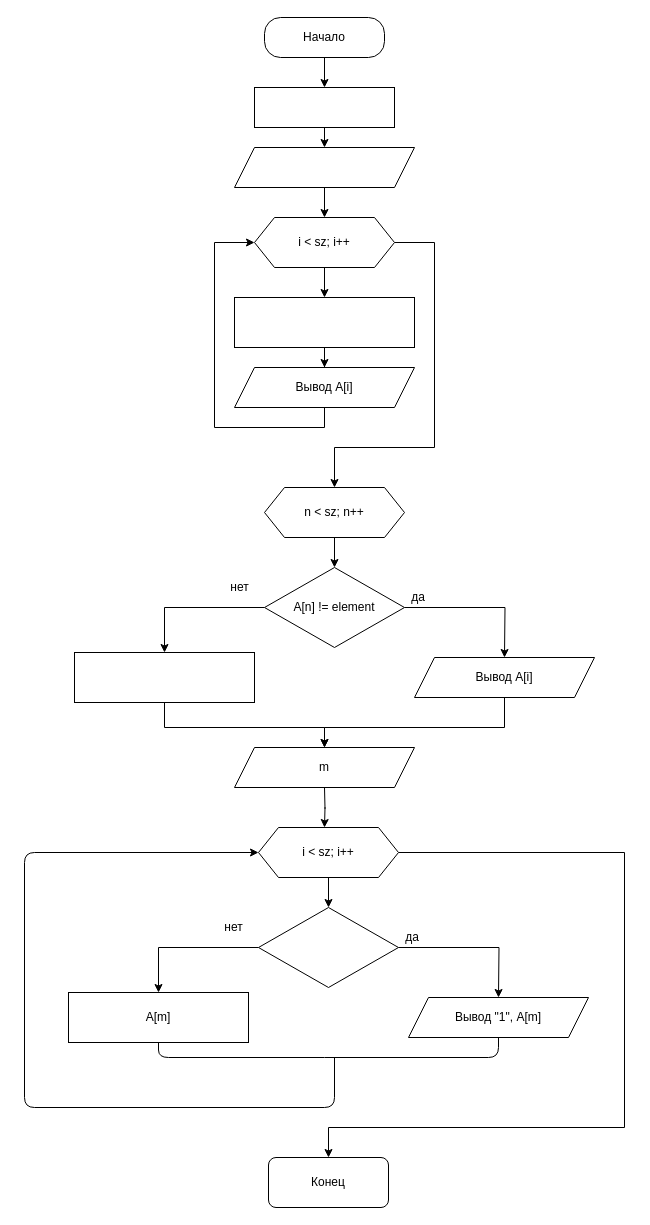
Some shapes in this 650 by 1225 pixel diagram are drawn without their labels. The box of each missing label's shape, as (x1, y1, x2, y2) in pixels:
A[m]%2==0: (258, 906, 398, 988)
m++: (74, 652, 254, 702)
Ввод размера массива: (234, 146, 414, 188)
Вычисление rand в пределах rmx: (234, 296, 414, 348)
Задание переменных: (254, 86, 394, 128)
